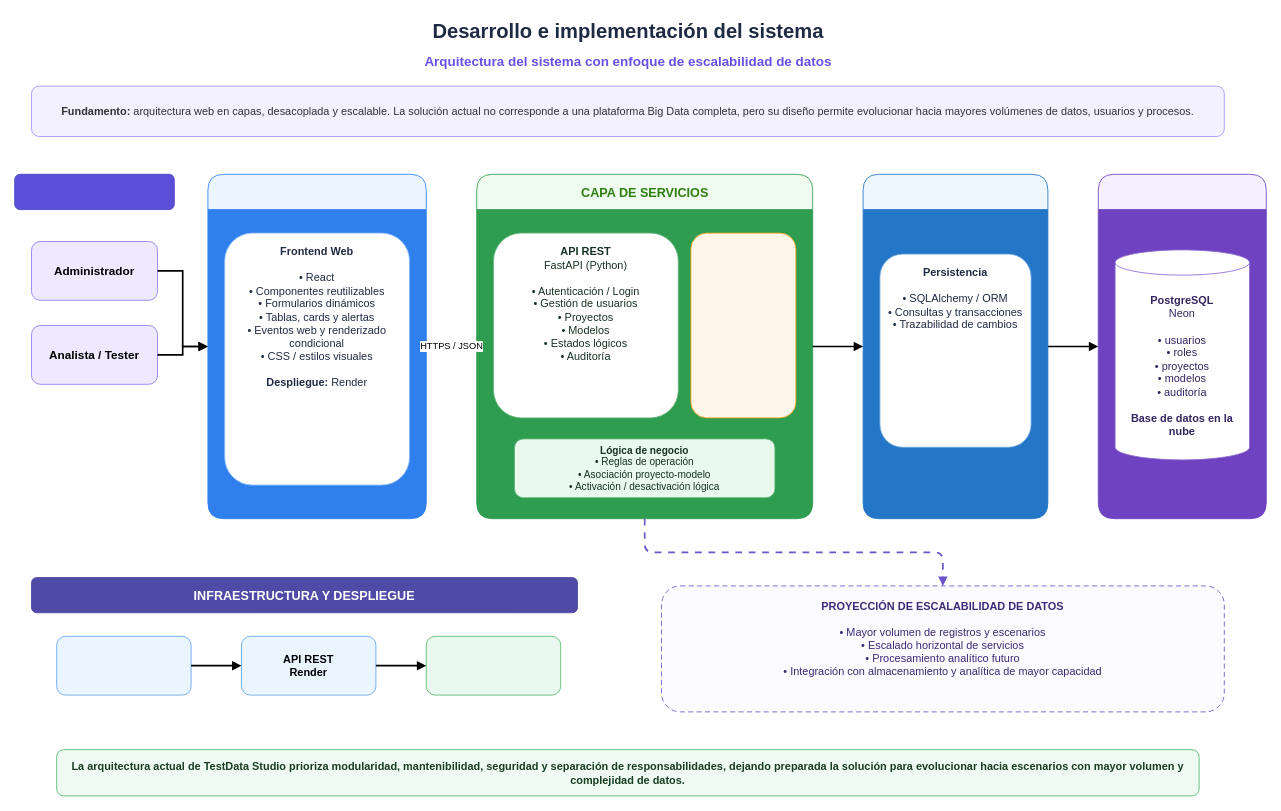
Some shapes in this 1281 by 811 pixel diagram are drawn without their labels. The box of each missing label's shape, as (x1, y1, x2, y2) in pixels:
ACCESO A DATOS: (862, 173, 1048, 519)
CAPA DE DATOS: (1097, 173, 1266, 519)
CAPA DE PRESENTACIÓN: (207, 173, 426, 519)
Frontend Render: (56, 635, 191, 695)
PostgreSQL Neon: (425, 635, 561, 695)
SEGURIDAD • JWT • Control por roles • Validación de datos • Manejo de errores: (690, 232, 796, 418)
USUARIOS: (14, 173, 174, 210)
